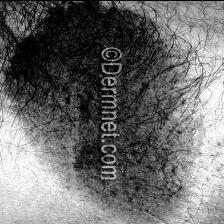Potentially Malignant Skin Tumors: (9, 3, 94, 204), (119, 15, 176, 221)
